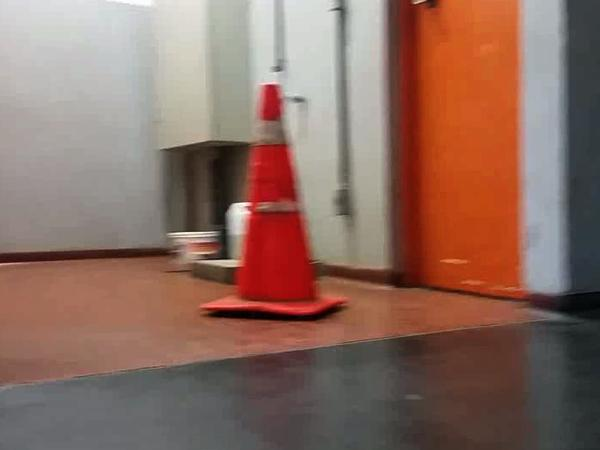0 cone: (198, 84, 345, 317)
